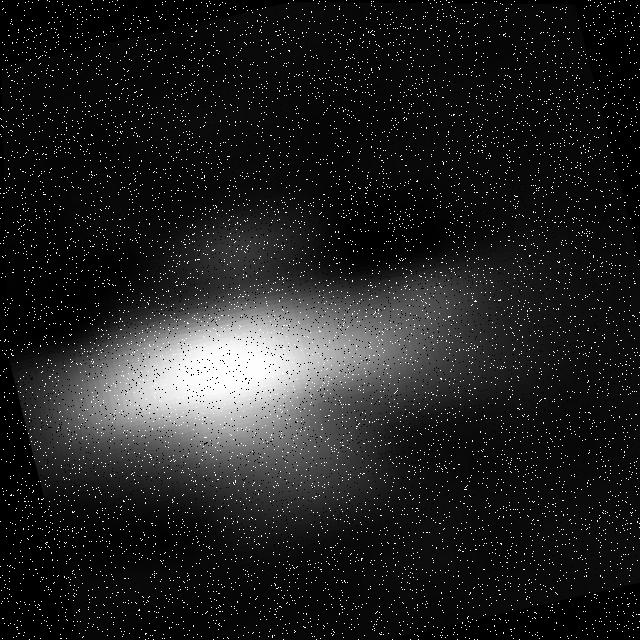person: (4, 199, 523, 554)
